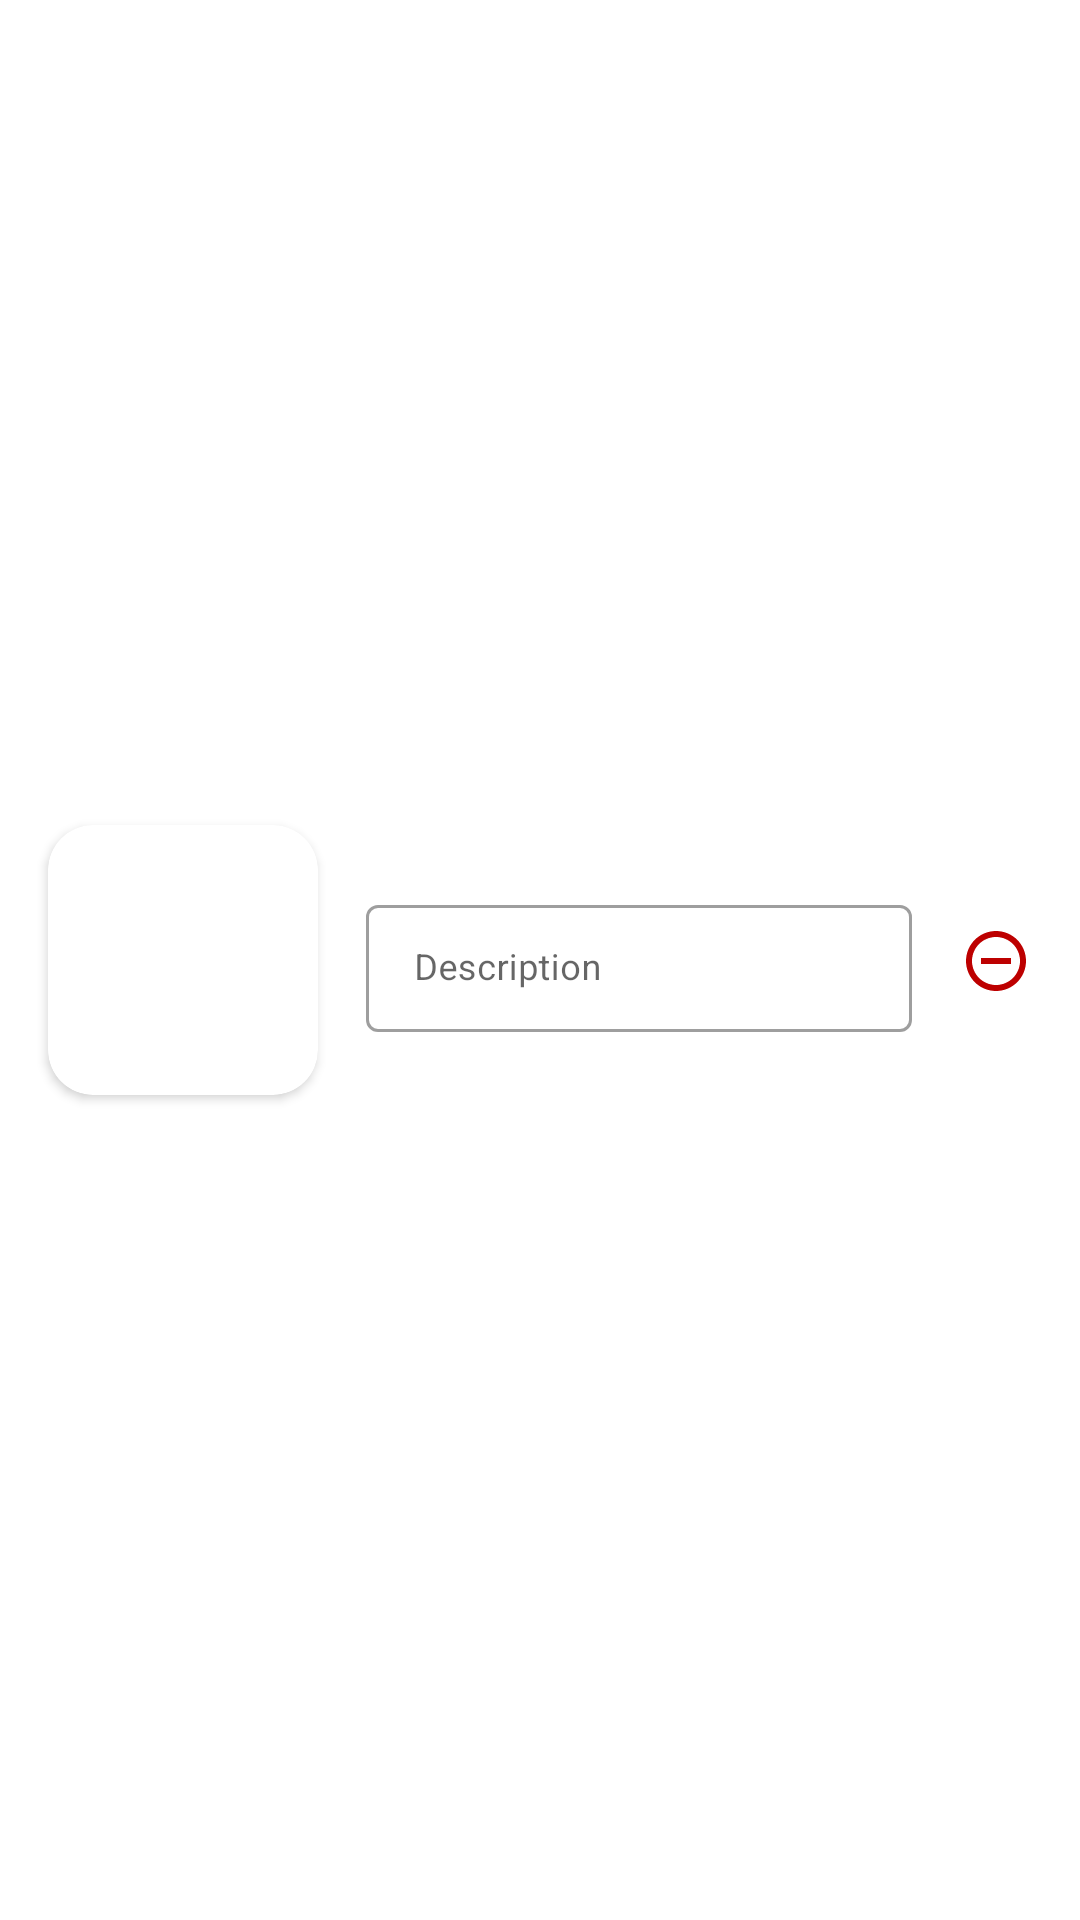

Where icons sit on this 1080×1920 app screen, as (x1,y1,x2,y2):
remove circle: (966,931,1026,991)
